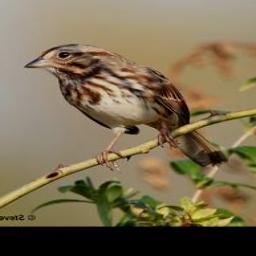Sparrow: (24, 43, 231, 174)
